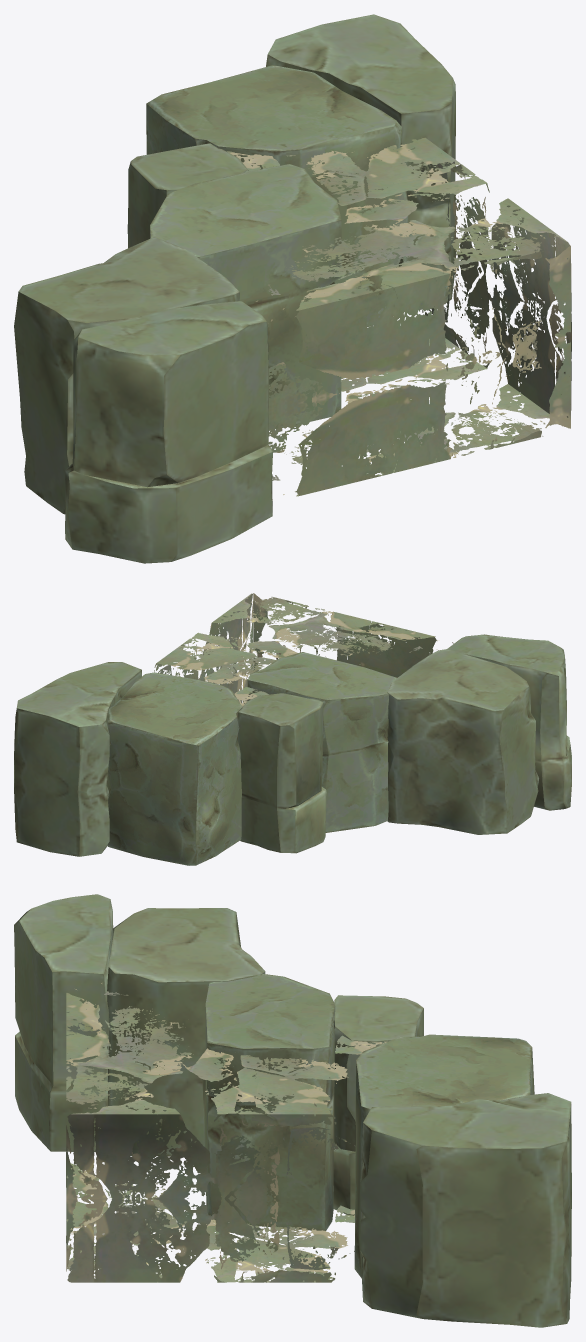
File: Ruins_Wall_DMG_Center_BotLeft_A.fbx
The picture shows the model from 3 angles, top to bottom: view 1: azimuth 30°, elevation 25°; view 2: azimuth 150°, elevation 25°; view 3: azimuth 270°, elevation 25°; orthographic projection. The views are drawn at different scales.
Visible parts, largest first — view 1: Ruins_Wall_DMG_Center_BotLeft_A; view 2: Ruins_Wall_DMG_Center_BotLeft_A; view 3: Ruins_Wall_DMG_Center_BotLeft_A.
Boxes of the visible parts, x1,y1,x2,y2 form: Ruins_Wall_DMG_Center_BotLeft_A: [14, 14, 571, 563]; Ruins_Wall_DMG_Center_BotLeft_A: [14, 593, 571, 865]; Ruins_Wall_DMG_Center_BotLeft_A: [14, 894, 571, 1327].
Size of the model in its own units: 820 by 284 by 750.
